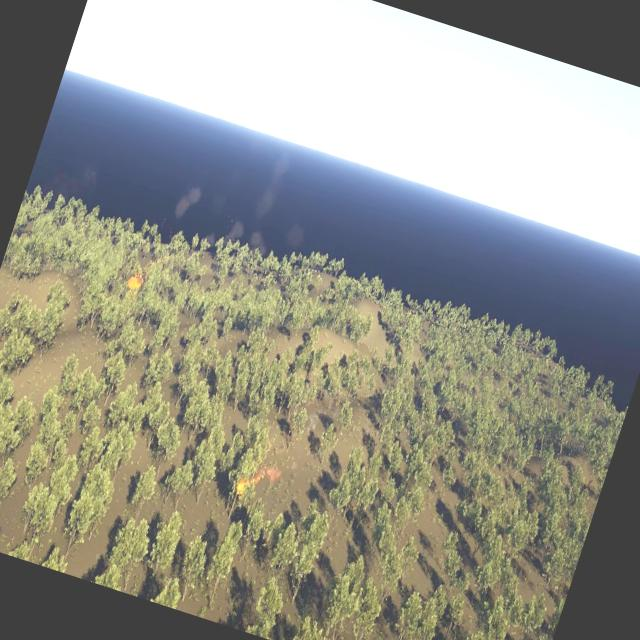fire: (128, 276, 144, 293), (234, 478, 247, 494)
smoke: (205, 134, 328, 274), (170, 180, 203, 223), (248, 456, 284, 493)
